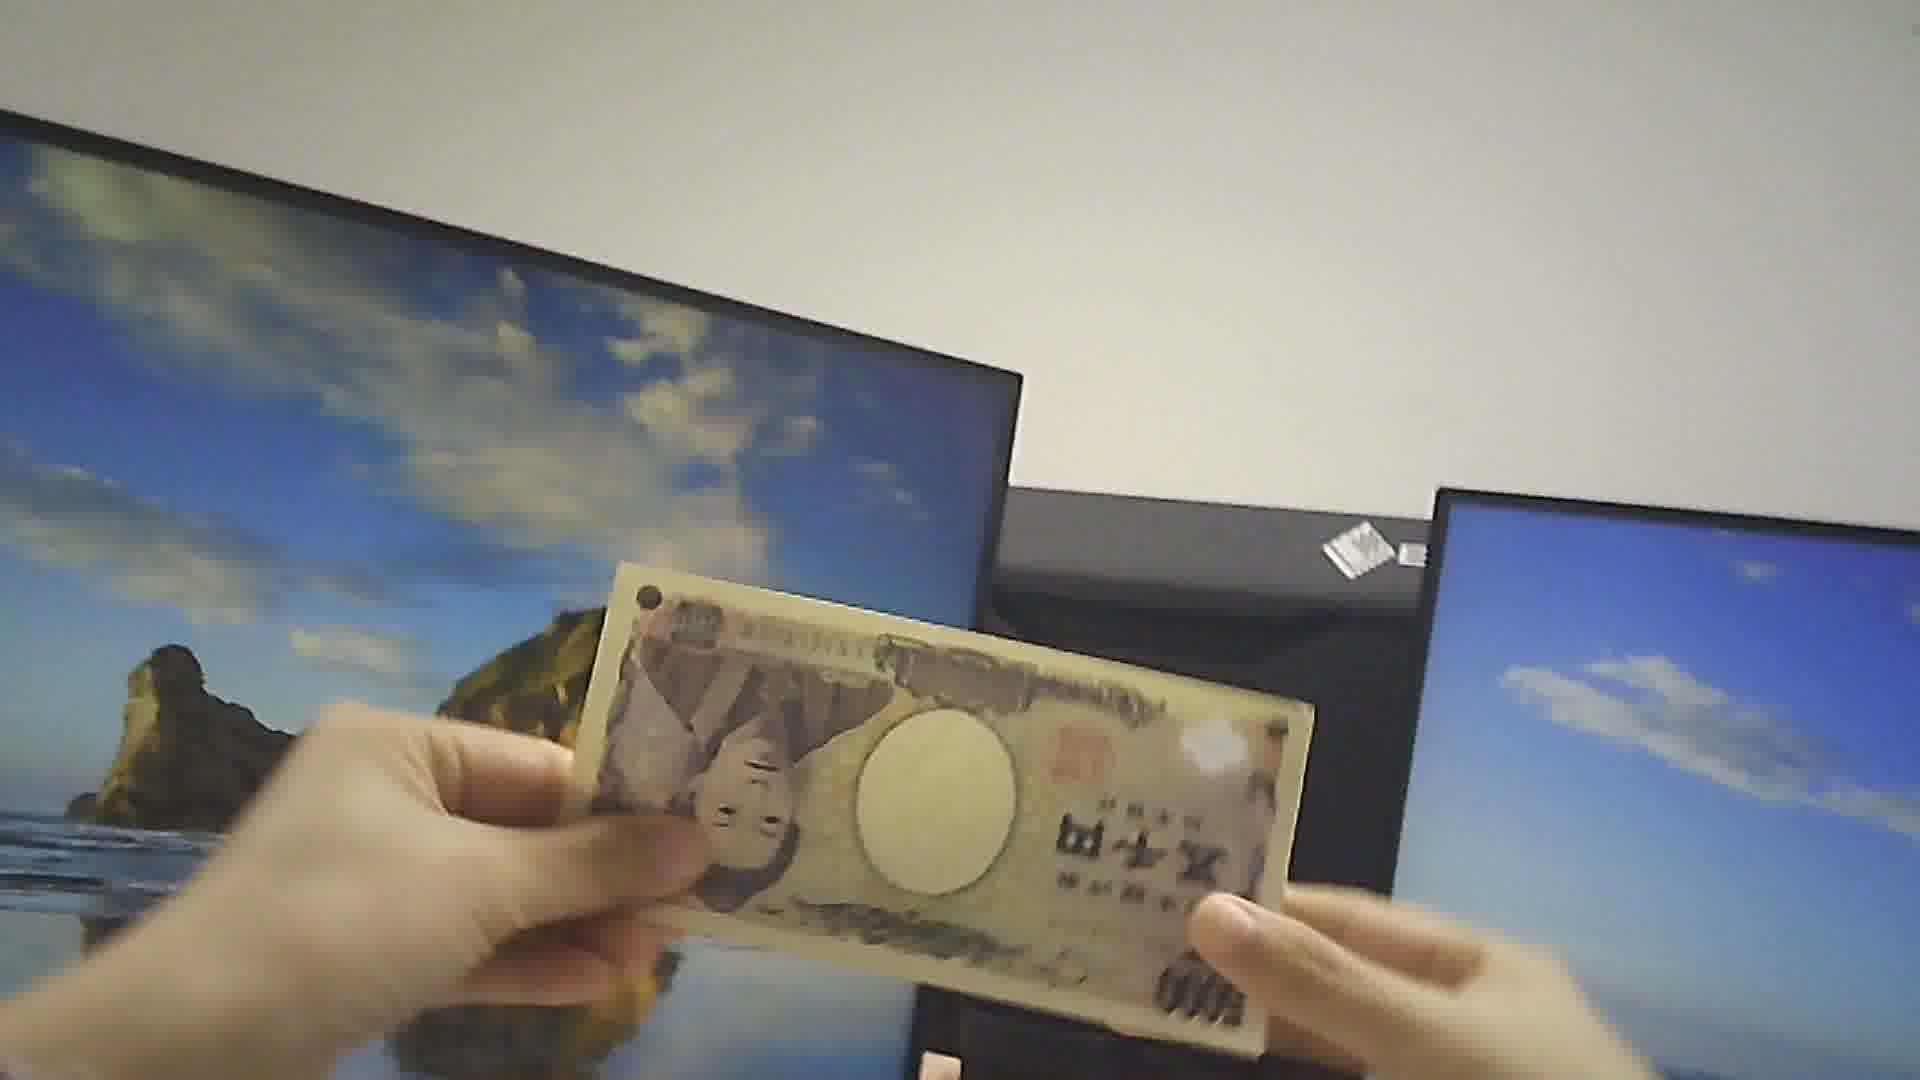5,000 Yen: (534, 560, 1305, 1071)
